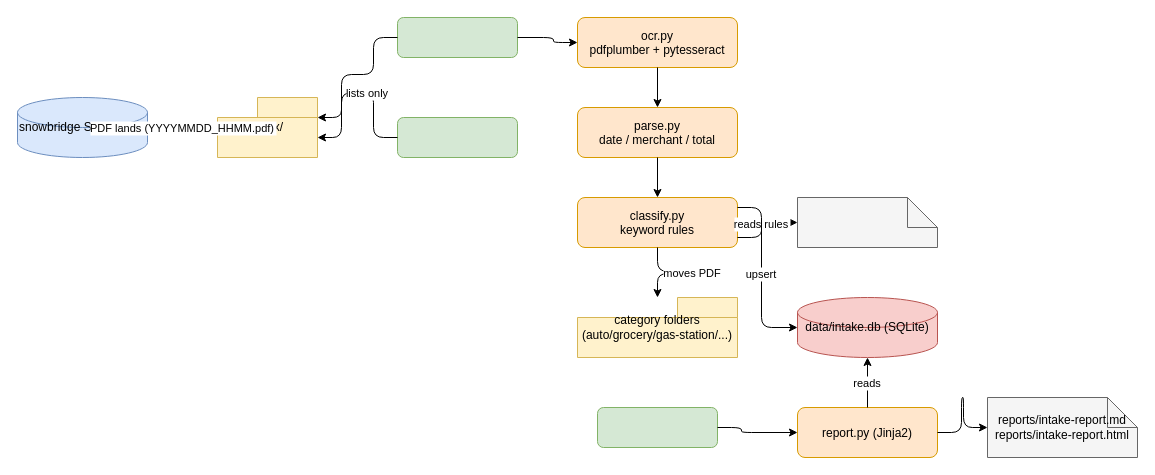
The diagram is 1155 pixels wide and 475 high, and some of its shapes have lost their labels. Each missing label, with the box of its shape:
config/categories.toml: (796, 196, 938, 248)
intake audit: (396, 116, 518, 158)
intake process: (396, 16, 518, 58)
intake report: (596, 406, 718, 448)
